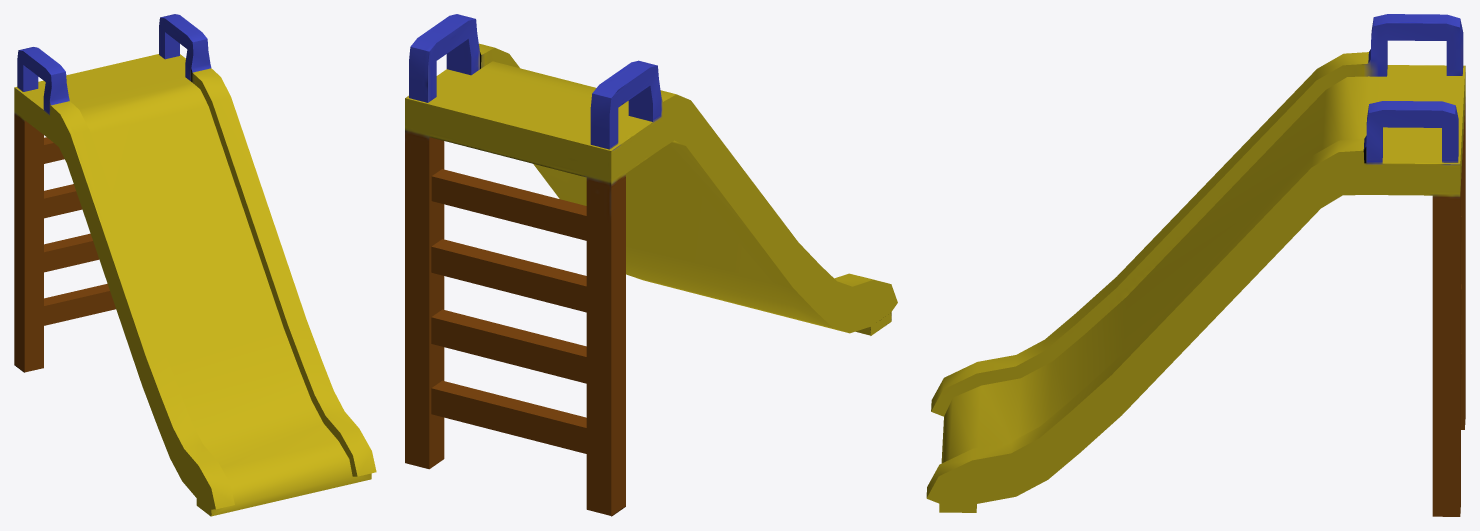
Rendered from slide.glb.
3 renders of one model, left to right at view 1: azimuth 30°, elevation 25°; view 2: azimuth 150°, elevation 25°; view 3: azimuth 270°, elevation 25°, orthographic. The views are drawn at different scales.
Parts seen in each view (by area): view 1: pCube1; view 2: pCube1; view 3: pCube1.
Part boxes in pixels (box(x1,y1,x2,y2)): pCube1: box(14, 14, 376, 516); pCube1: box(405, 14, 897, 516); pCube1: box(926, 14, 1465, 516).
Bounding box in the file's own units: 2.87 × 5.25 × 6.32.
Materials: 1 (1 with a texture image).
